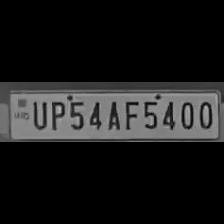0: (196, 98, 214, 130), (178, 98, 195, 130)
4: (86, 97, 104, 131), (158, 97, 176, 131)
5: (65, 97, 84, 131), (140, 97, 158, 131)
A: (103, 98, 121, 132)
F: (122, 98, 138, 132)
P: (48, 98, 64, 132)
U: (29, 98, 47, 130)
